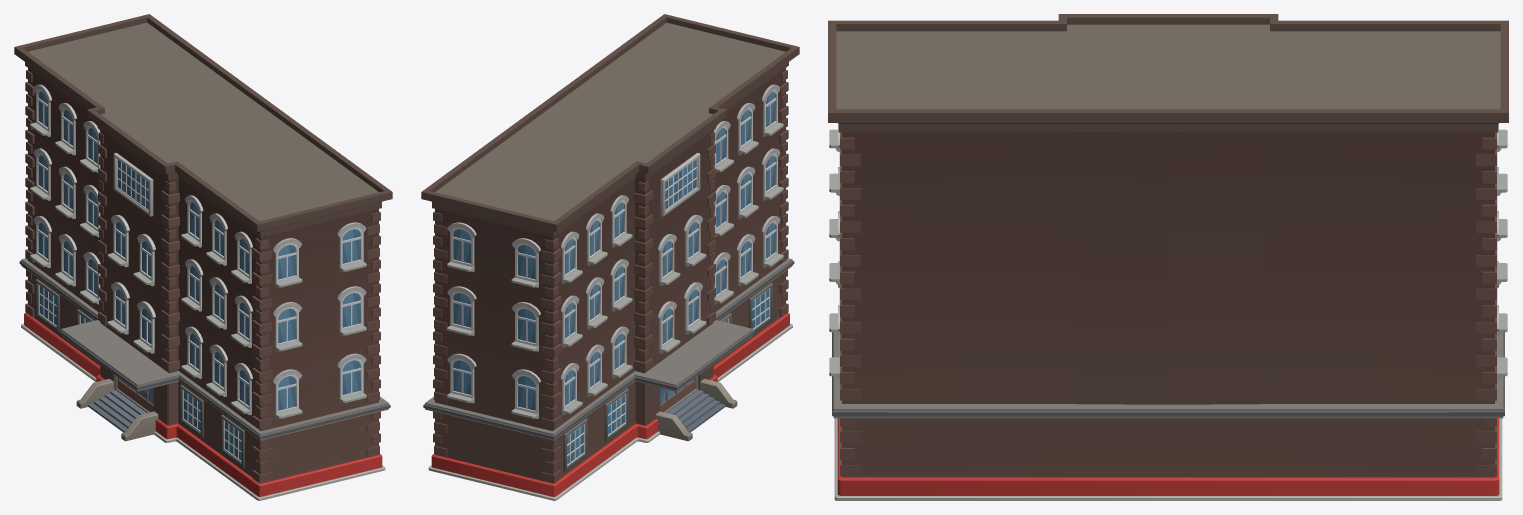
Rendered from Building_6_F.fbx.
3 views of the same model, side by side, from view 1: azimuth 30°, elevation 25°; view 2: azimuth 150°, elevation 25°; view 3: azimuth 270°, elevation 25° (orthographic). The views are drawn at different scales.
Parts seen in each view (by area): view 1: Building_6_F; view 2: Building_6_F; view 3: Building_6_F.
Boxes of the visible parts, left/top/right/bottom form: Building_6_F: left=14, top=14, right=392, bottom=500; Building_6_F: left=421, top=14, right=799, bottom=500; Building_6_F: left=828, top=14, right=1508, bottom=500.
Bounding box in the file's own units: 935 × 1440 × 2273.
